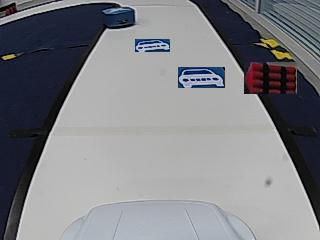prop: (103, 7, 135, 29)
